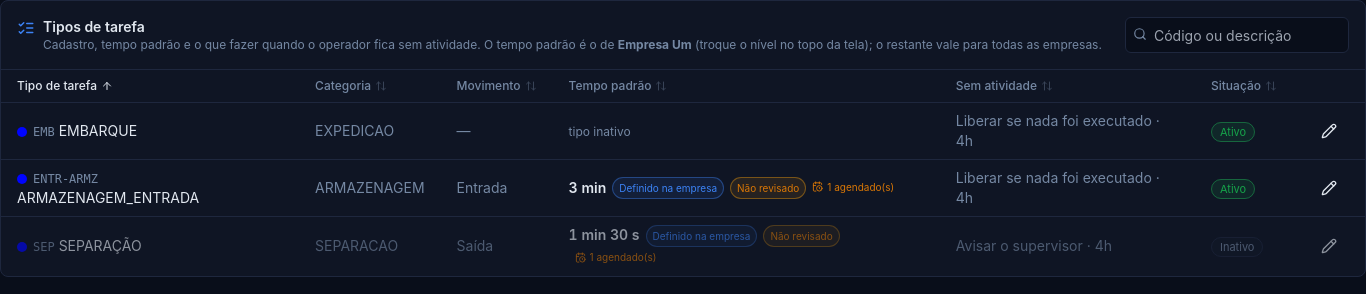
Scenario: Fase 10.12 · ordenação da grade › clicar no título alterna A→Z e Z→A
The width and height of the screenshot is (1366, 294).
Expected: the text "EMBARQUE" is shown, [59, 122, 137, 139]
Click the button "Tipo de tarefa". click: x=65, y=86
box: [17, 78, 113, 94]
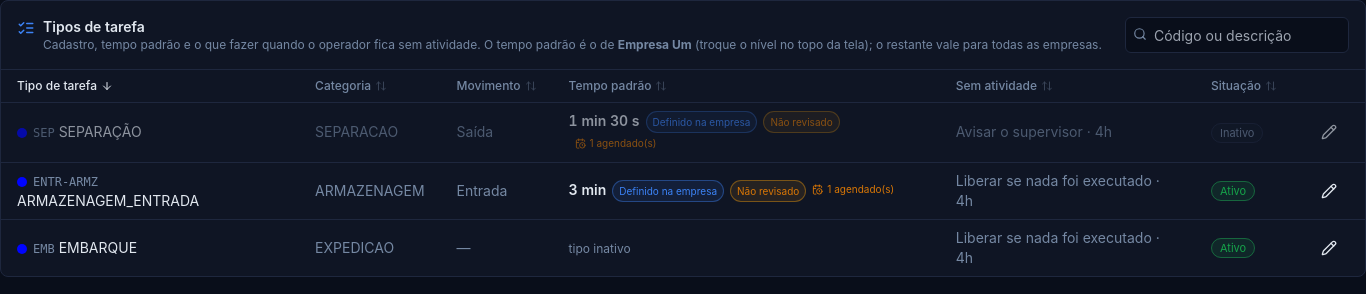
Click the button "Categoria". click: x=351, y=86
box: [315, 78, 387, 94]
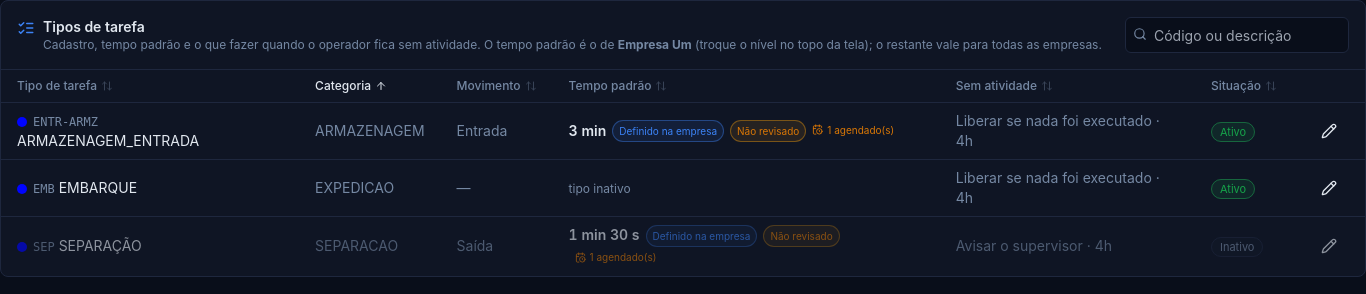
Expected: the column heading "Categoria" has attribute aria-sort="ascending", [299, 70, 440, 102]
